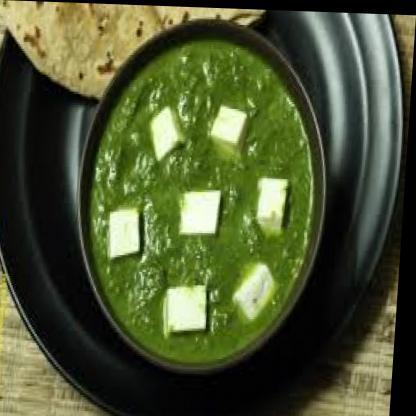palak_paneer: (86, 35, 325, 363)
